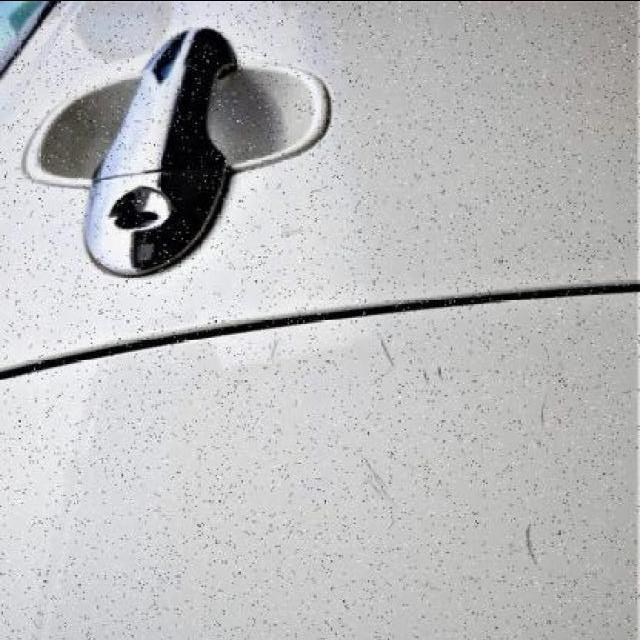doorouter-dent: (7, 320, 639, 638), (9, 1, 640, 294)
